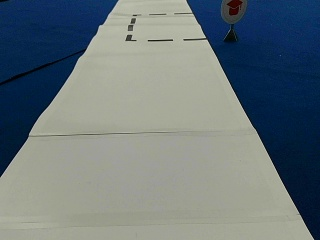school: (219, 1, 247, 23)
